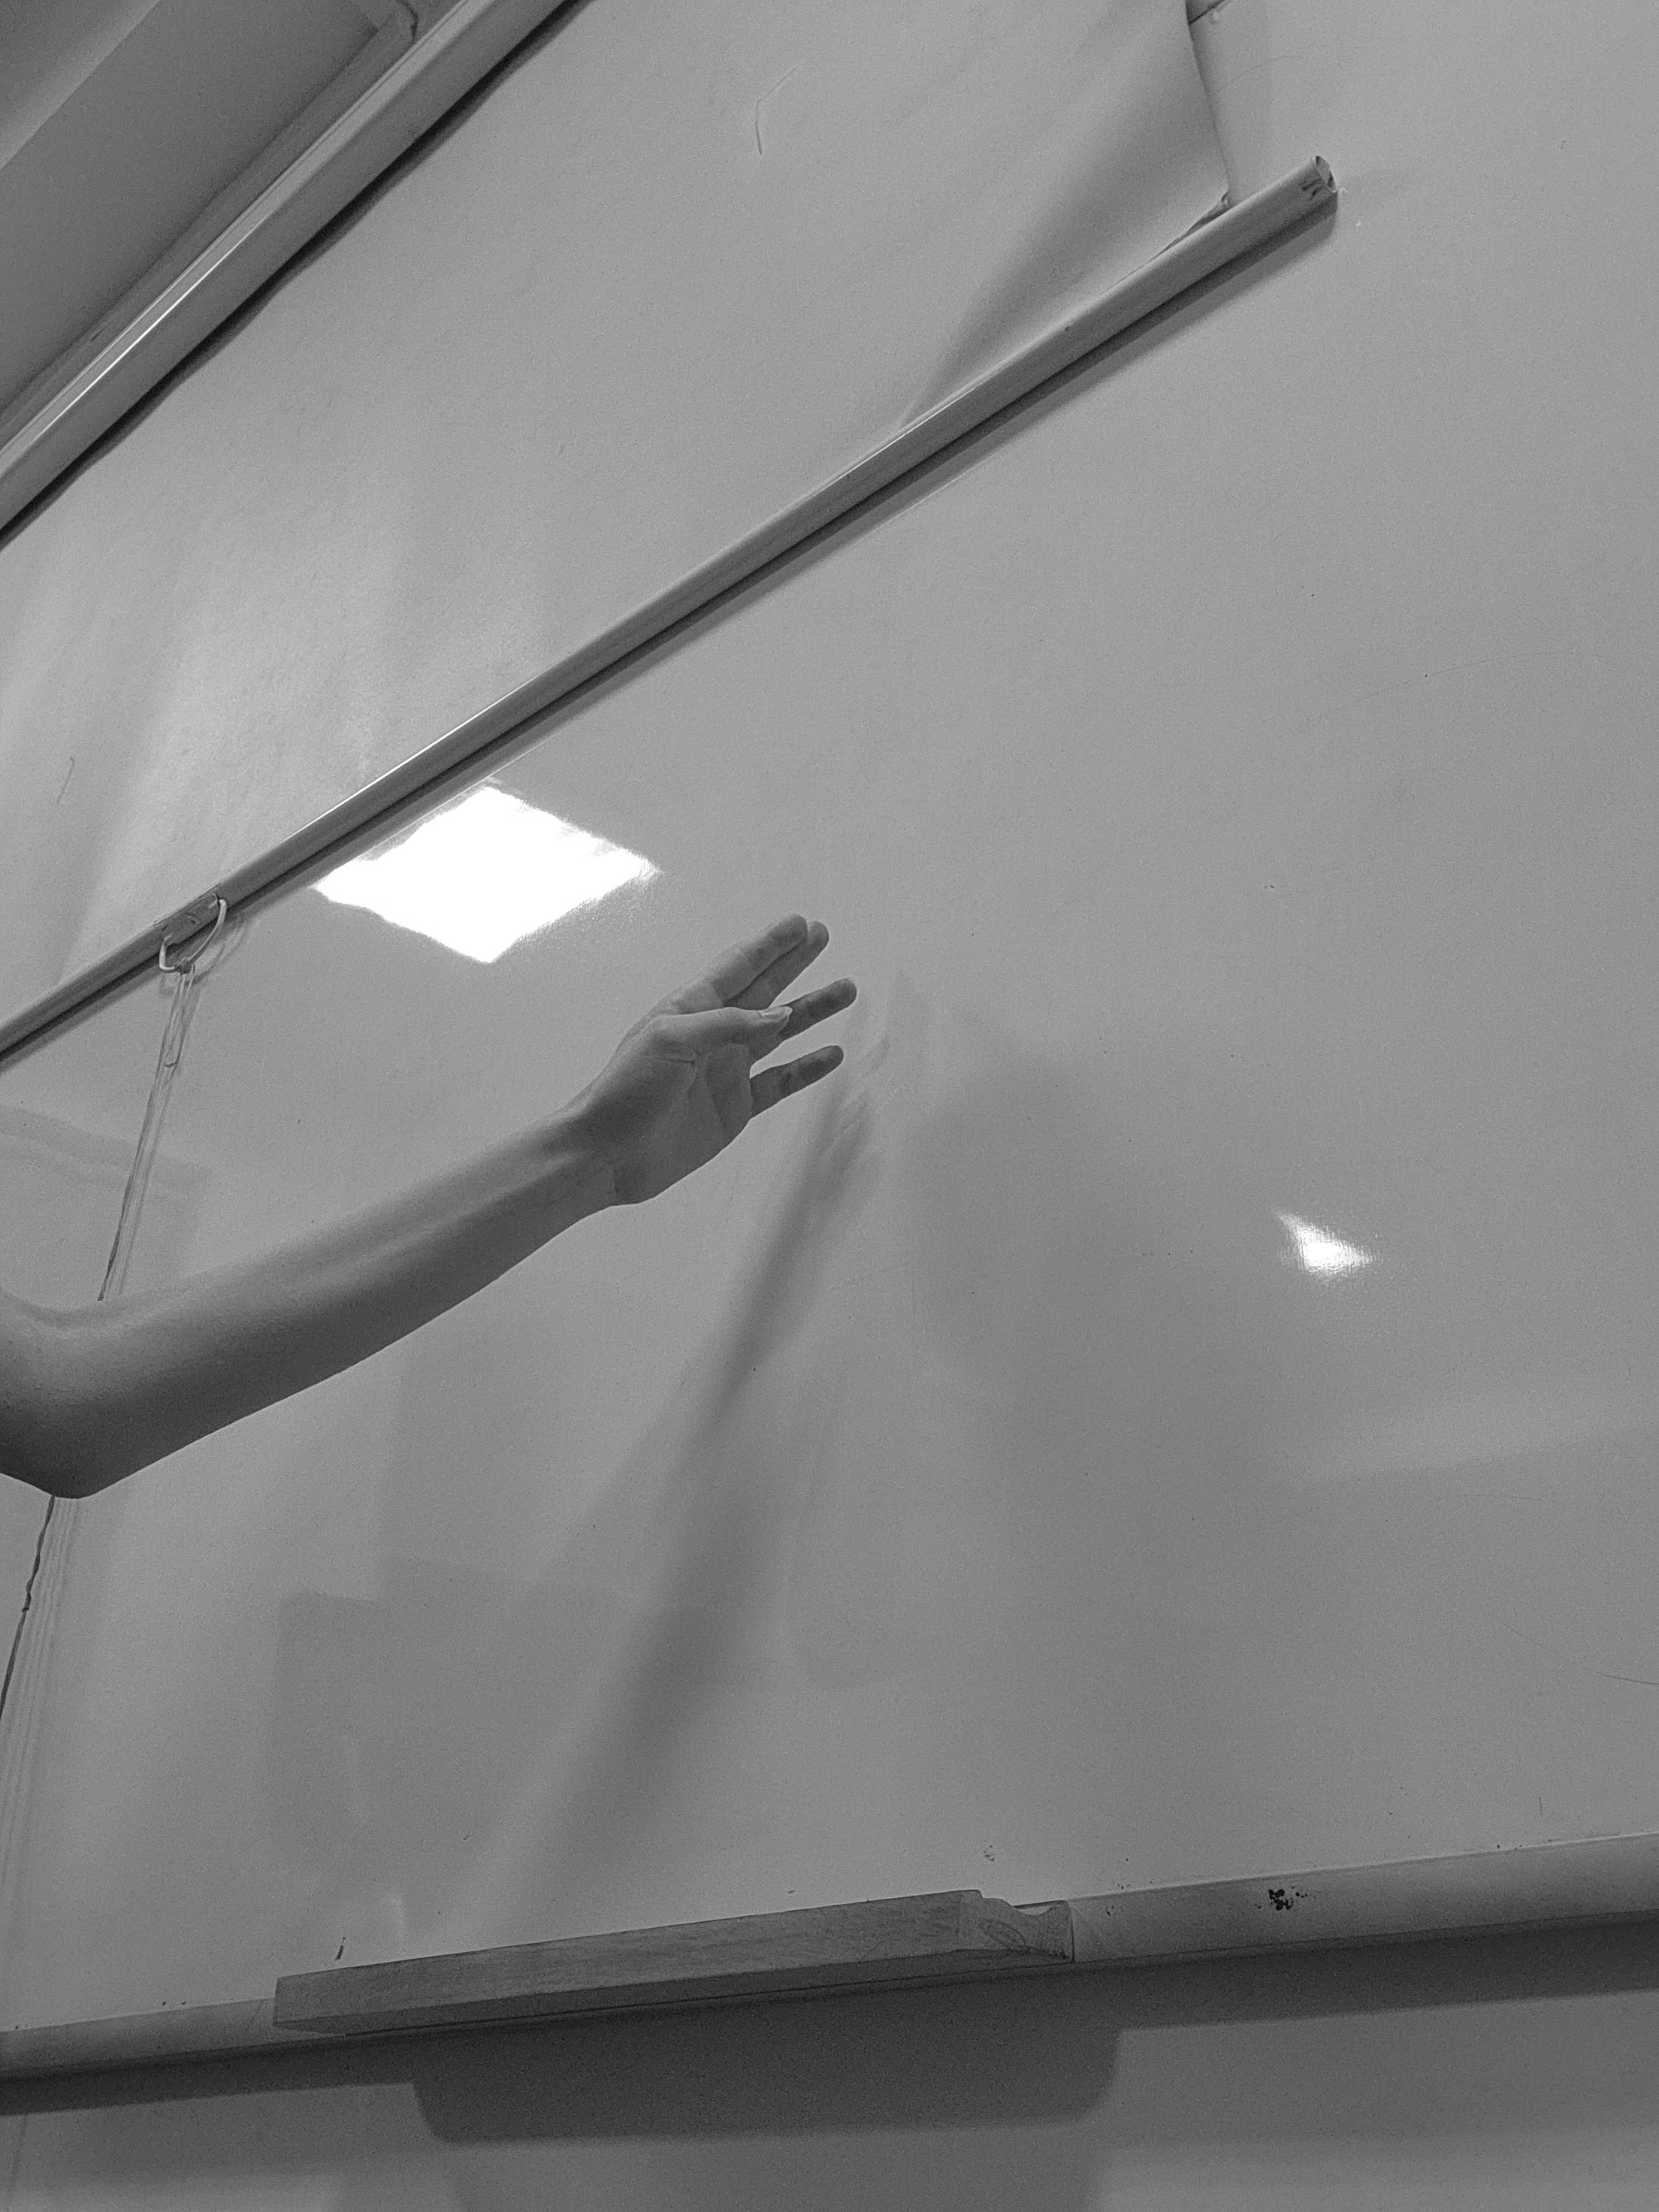pointing_gesture: (565, 909, 866, 1214)
